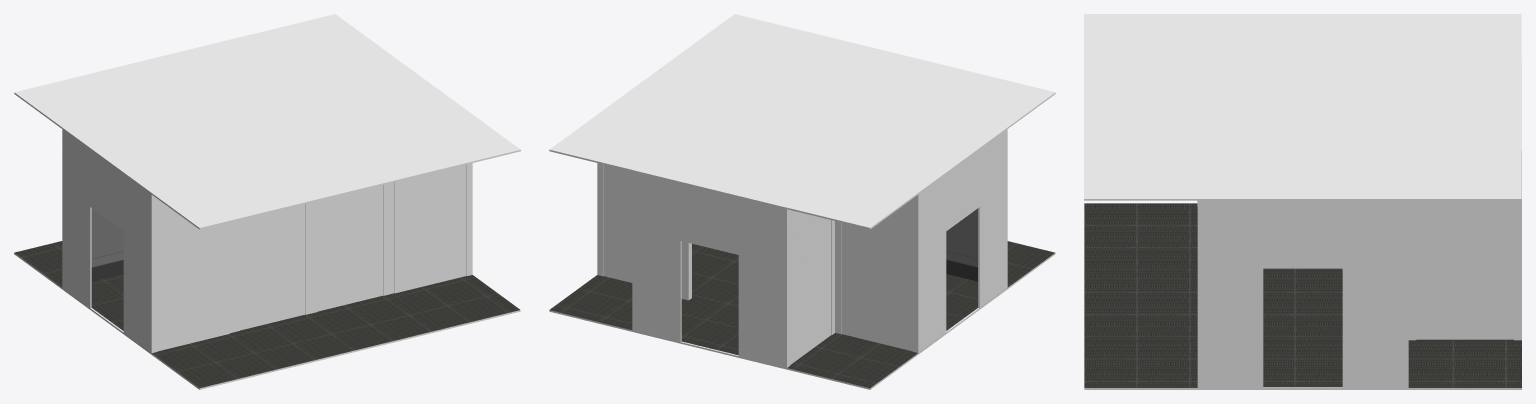
Rendered from CZTCross.fbx.
3 views of the same model, side by side, from view 1: azimuth 30°, elevation 25°; view 2: azimuth 150°, elevation 25°; view 3: azimuth 270°, elevation 25° (orthographic). The views are drawn at different scales.
Visible parts, largest first — view 1: node_id37, node_id23 (×2), node_id40 (×2), node_id27, node_id31, node_id34, node_id43 (×8); view 2: node_id37, node_id19, node_id23 (×2), node_id40 (×2), node_id43 (×6), node_id27; view 3: node_id37, node_id40 (×2), node_id27, node_id19, node_id43 (×3), node_id23.
Part boxes in pixels (left/top/right/bottom): node_id37: left=14, top=14, right=520, bottom=229; node_id23 (×2): left=62, top=109, right=229, bottom=352; node_id40 (×2): left=14, top=241, right=520, bottom=389; node_id27: left=307, top=49, right=472, bottom=293; node_id31: left=233, top=152, right=310, bottom=330; node_id34: left=311, top=133, right=388, bottom=311; node_id43 (×8): left=62, top=110, right=472, bottom=352; node_id37: left=549, top=14, right=1055, bottom=229; node_id19: left=632, top=137, right=830, bottom=369; node_id23 (×2): left=841, top=109, right=1007, bottom=352; node_id40 (×2): left=549, top=241, right=1055, bottom=389; node_id43 (×6): left=597, top=110, right=922, bottom=366; node_id27: left=597, top=49, right=762, bottom=282; node_id37: left=1084, top=14, right=1521, bottom=200; node_id40 (×2): left=1084, top=203, right=1521, bottom=389; node_id27: left=1197, top=154, right=1408, bottom=389; node_id19: left=1416, top=62, right=1521, bottom=340; node_id43 (×3): left=1197, top=144, right=1521, bottom=389; node_id23: left=1197, top=14, right=1408, bottom=58.
Bounding box in the file's own units: 0.512 × 0.2467 × 0.5123.
Materials: 32 (7 with a texture image).
